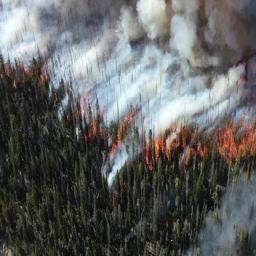Heavy smoke: (3, 0, 256, 57), (66, 48, 251, 112)
Low smoke: (201, 172, 256, 256), (101, 156, 131, 188)
Medium fire: (143, 123, 256, 163), (85, 103, 138, 155), (1, 56, 50, 85)
